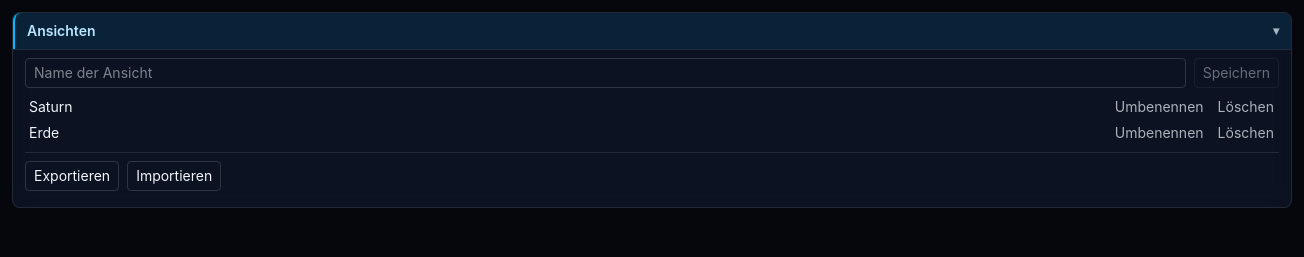
Test: AnsichtenPanel: umbenennen › lehnt einen vergebenen Namen ab und markiert das Feld
Click the button with aria-label "Umbenennen: Saturn" at point(1159, 107), box [1110,96,1209,118]
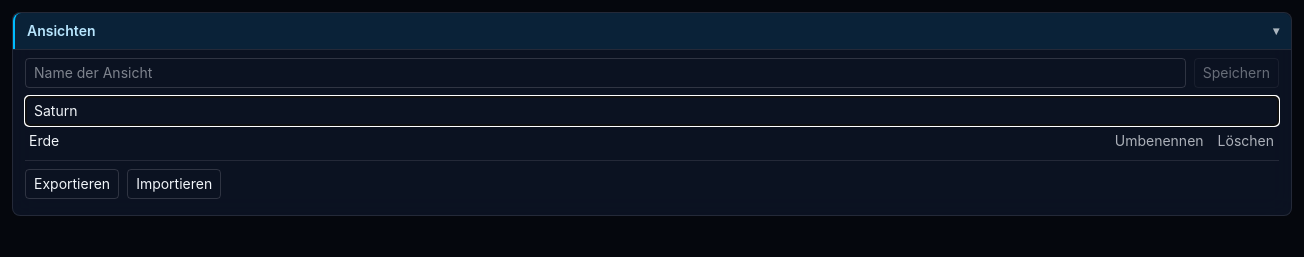
Replace the text in the field named "Neuer Name" with " Erde " at point(652, 111), box [25,96,1279,126]
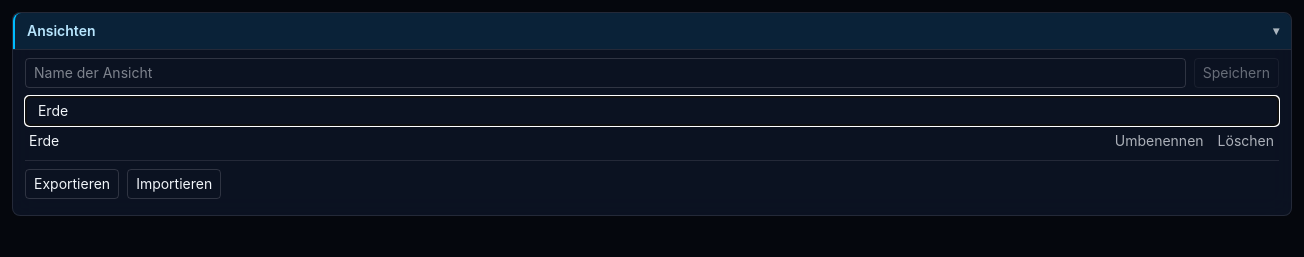
Press Enter in the field named "Neuer Name", box [25,96,1279,126]
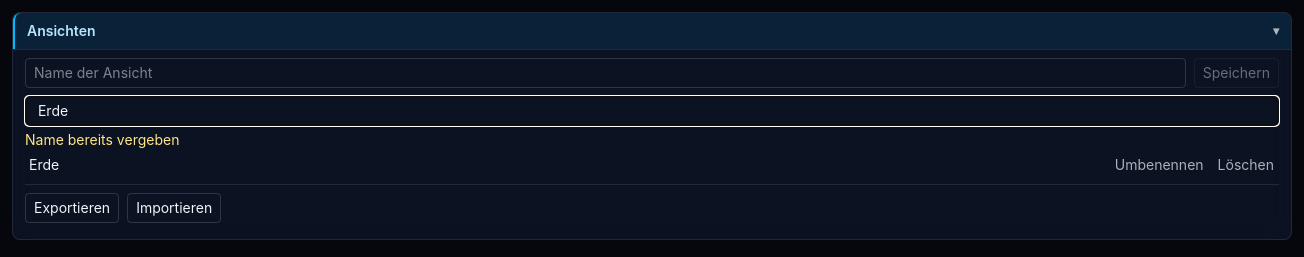
Result: the text "Name bereits vergeben" is shown at [25,131,179,148]
